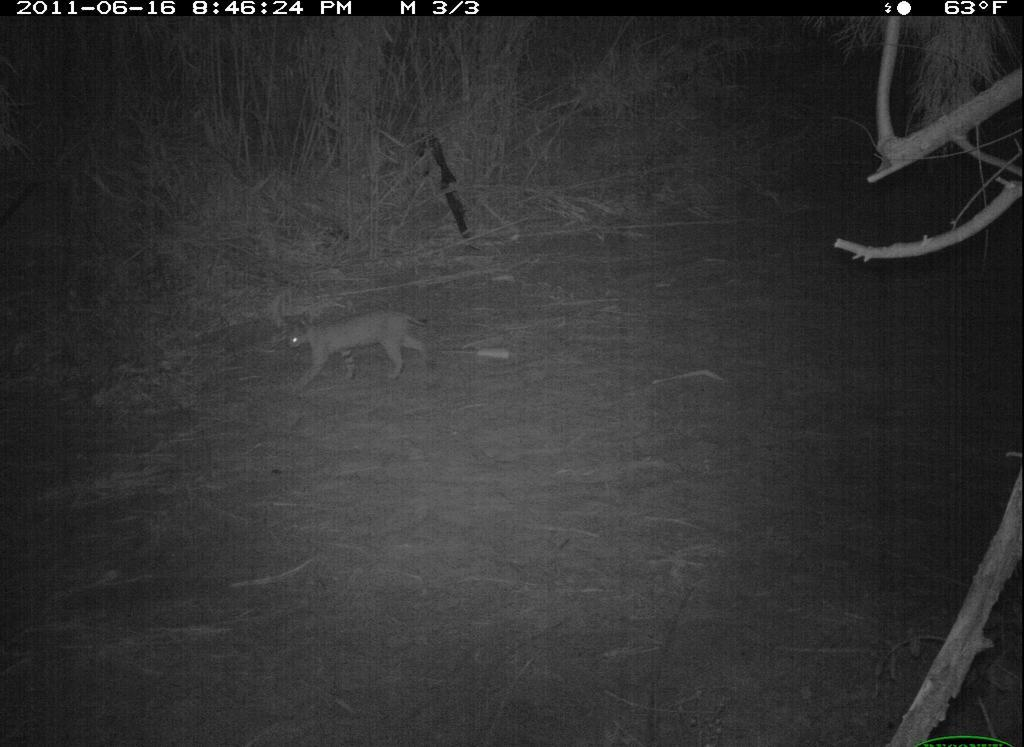bobcat: (272, 297, 466, 409)
